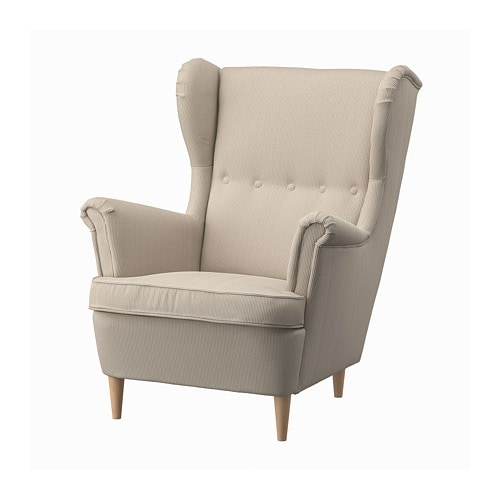obstacle: (81, 59, 420, 439)
